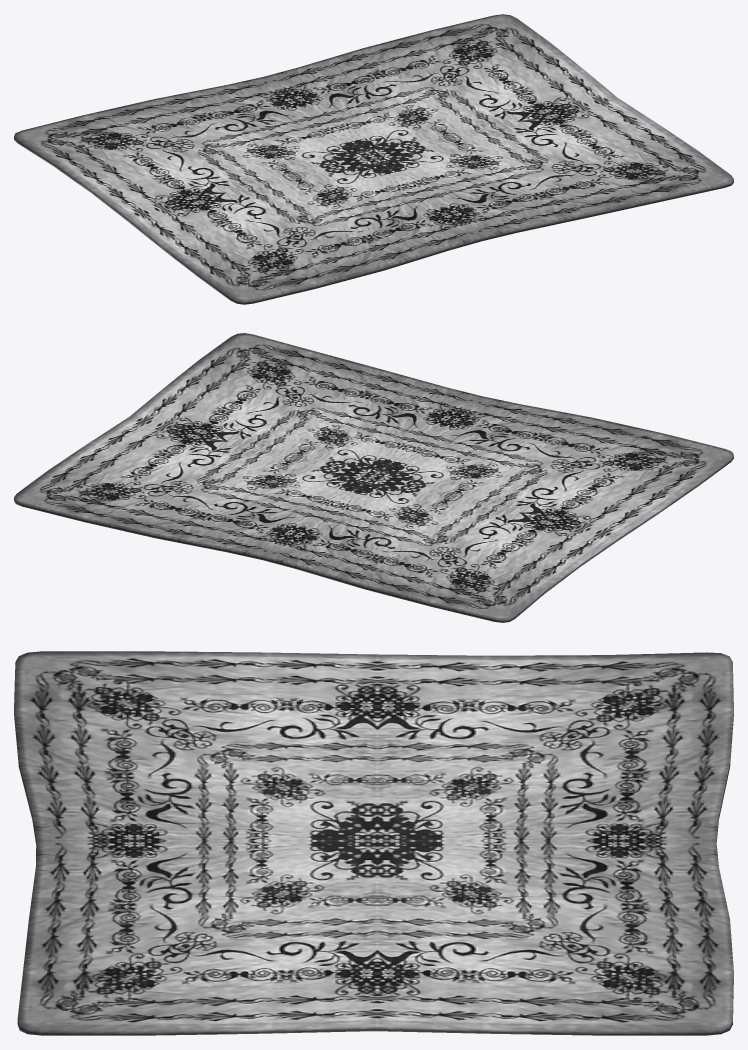
Rendered from NienteCarpet_HD.fbx.
3 renders of one model, top to bottom at view 1: azimuth 30°, elevation 25°; view 2: azimuth 150°, elevation 25°; view 3: azimuth 270°, elevation 25°, orthographic. The views are drawn at different scales.
Parts seen in each view (by area): view 1: NienteCarpet; view 2: NienteCarpet; view 3: NienteCarpet.
Part boxes in pixels (left/top/right/bottom): NienteCarpet: left=14, top=14, right=733, bottom=304; NienteCarpet: left=14, top=333, right=733, bottom=622; NienteCarpet: left=14, top=651, right=733, bottom=1035.
Size of the model in its own units: 2.31 by 0.016 by 1.86.
